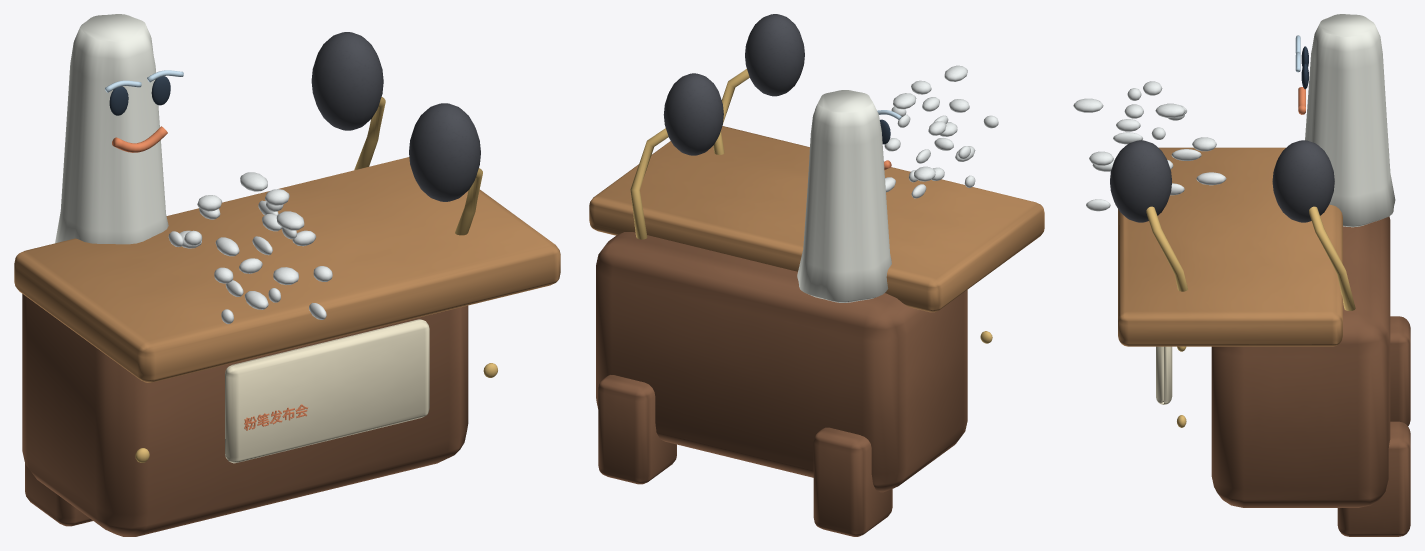
The model's file is Q05_Chalk_Press_Conference_R200.glb.
3 views of the same model, side by side, from view 1: azimuth 30°, elevation 25°; view 2: azimuth 150°, elevation 25°; view 3: azimuth 270°, elevation 25° (orthographic). The views are drawn at different scales.
Visible parts, largest first — view 1: Q05 walnut raised podium lip, Q05_PODIUM_STATIC | Old school walnut press desk, Q05 pressed paper nameplate, Q05 asymmetrical solid white chalk speaker, Q05_MICROPHONE_ACTOR | Black microphone windscreen foam, Q05_DUST_ACTOR | Fluffy airborne chalk dust clumps, Q05_MICROPHONE_ACTOR | Brass microphone and podium hinges, Q05_CHALK_ACTOR | Chalk speaker glass eyes; view 2: Q05_PODIUM_STATIC | Old school walnut press desk, Q05 walnut raised podium lip, Q05 asymmetrical solid white chalk speaker, Q05_MICROPHONE_ACTOR | Black microphone windscreen foam, Q05_DUST_ACTOR | Fluffy airborne chalk dust clumps, Q05_MICROPHONE_ACTOR | Brass microphone and podium hinges; view 3: Q05_PODIUM_STATIC | Old school walnut press desk, Q05 walnut raised podium lip, Q05 asymmetrical solid white chalk speaker, Q05_MICROPHONE_ACTOR | Black microphone windscreen foam, Q05_DUST_ACTOR | Fluffy airborne chalk dust clumps, Q05_MICROPHONE_ACTOR | Brass microphone and podium hinges, Q05 pressed paper nameplate.
Part boxes in pixels (x1=…): Q05 walnut raised podium lip: x1=14, y1=157, x2=560, y2=382; Q05_PODIUM_STATIC | Old school walnut press desk: x1=22, y1=294, x2=468, y2=536; Q05 pressed paper nameplate: x1=225, y1=319, x2=429, y2=463; Q05 asymmetrical solid white chalk speaker: x1=55, y1=14, x2=168, y2=244; Q05_MICROPHONE_ACTOR | Black microphone windscreen foam: x1=311, y1=32, x2=480, y2=201; Q05_DUST_ACTOR | Fluffy airborne chalk dust clumps: x1=168, y1=172, x2=332, y2=323; Q05_MICROPHONE_ACTOR | Brass microphone and podium hinges: x1=354, y1=97, x2=482, y2=235; Q05_CHALK_ACTOR | Chalk speaker glass eyes: x1=109, y1=76, x2=170, y2=115; Q05_PODIUM_STATIC | Old school walnut press desk: x1=596, y1=232, x2=967, y2=536; Q05 walnut raised podium lip: x1=589, y1=126, x2=1044, y2=312; Q05 asymmetrical solid white chalk speaker: x1=797, y1=90, x2=891, y2=302; Q05_MICROPHONE_ACTOR | Black microphone windscreen foam: x1=663, y1=14, x2=804, y2=155; Q05_DUST_ACTOR | Fluffy airborne chalk dust clumps: x1=884, y1=65, x2=998, y2=198; Q05_MICROPHONE_ACTOR | Brass microphone and podium hinges: x1=630, y1=69, x2=749, y2=239; Q05_PODIUM_STATIC | Old school walnut press desk: x1=1211, y1=216, x2=1410, y2=536; Q05 walnut raised podium lip: x1=1118, y1=147, x2=1342, y2=346; Q05 asymmetrical solid white chalk speaker: x1=1305, y1=14, x2=1395, y2=227; Q05_MICROPHONE_ACTOR | Black microphone windscreen foam: x1=1110, y1=140, x2=1334, y2=222; Q05_DUST_ACTOR | Fluffy airborne chalk dust clumps: x1=1073, y1=81, x2=1226, y2=211; Q05_MICROPHONE_ACTOR | Brass microphone and podium hinges: x1=1146, y1=206, x2=1355, y2=310; Q05 pressed paper nameplate: x1=1156, y1=346, x2=1172, y2=404.
Bounding box in the file's own units: 1.5 × 1.66 × 1.24.
Materials: 10 (6 with a texture image).
